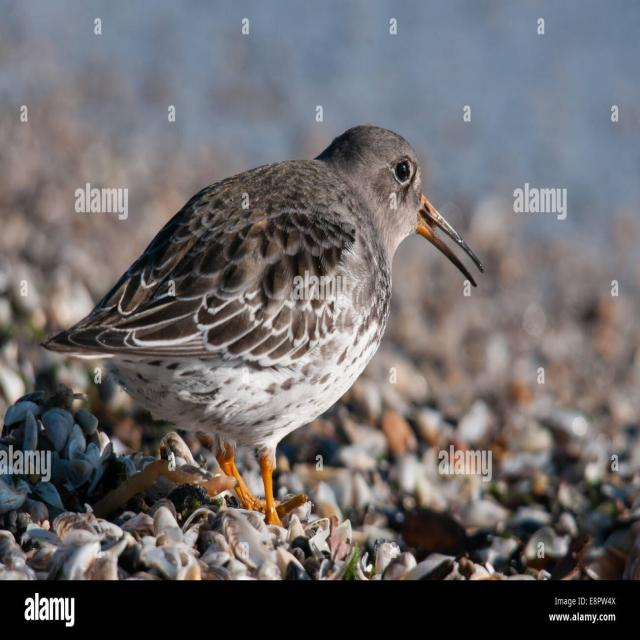Sandpiper: (58, 119, 486, 499)
